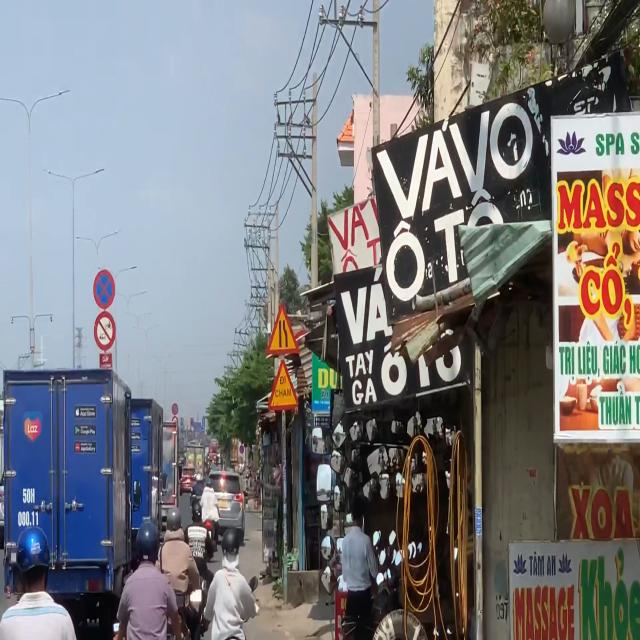Cam dung va do: (92, 267, 116, 310)
Nguy hiem: (265, 302, 301, 358), (268, 358, 300, 411)
